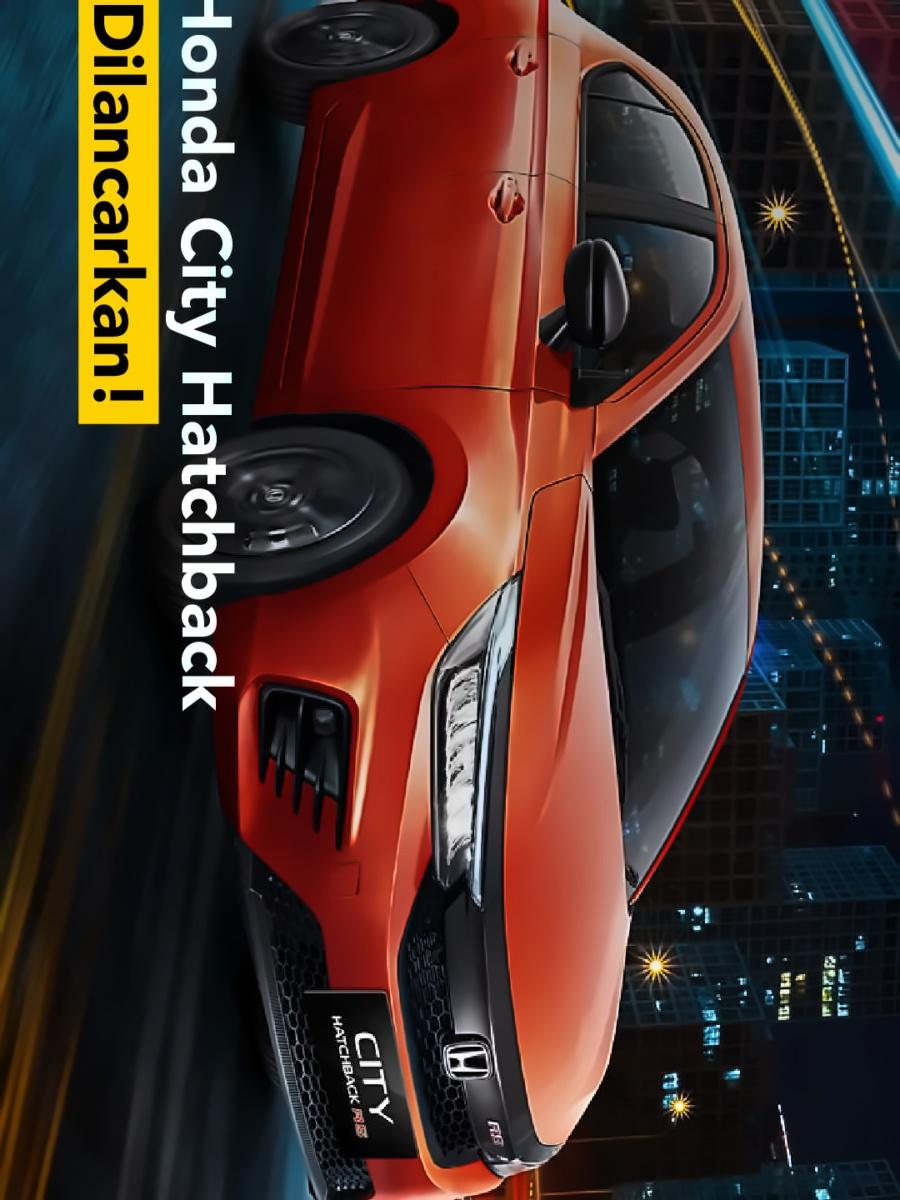Car hood: (498, 475, 637, 1157)
Driver-s door - -F-R-: (279, 186, 740, 410)
Fender - -F-R-: (235, 383, 606, 637)
Front bumper: (193, 578, 442, 1200)
Headlight - -L-: (473, 1128, 551, 1189)
Headlight - -R-: (416, 563, 537, 903)
Passenger-s door - -R-R-: (308, 25, 731, 210)
Side bumper - -R-: (239, 63, 360, 439)
Side mirror - -R-: (528, 218, 637, 378)
